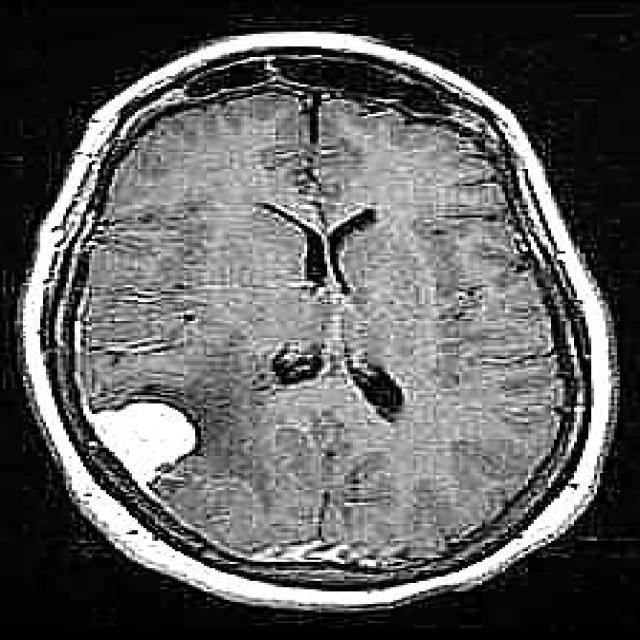Tumor-Cell: (90, 391, 192, 478)
